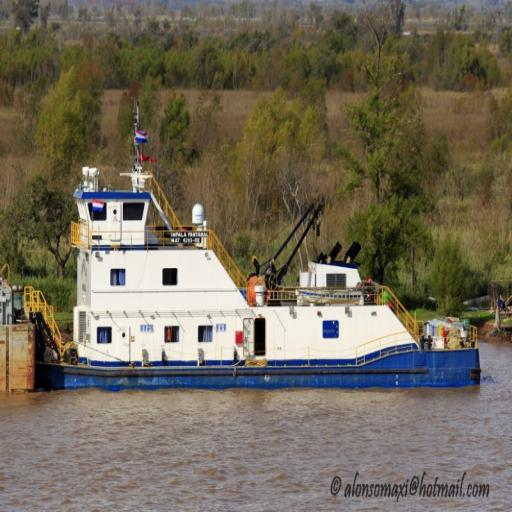tugboat: (13, 162, 487, 409)
